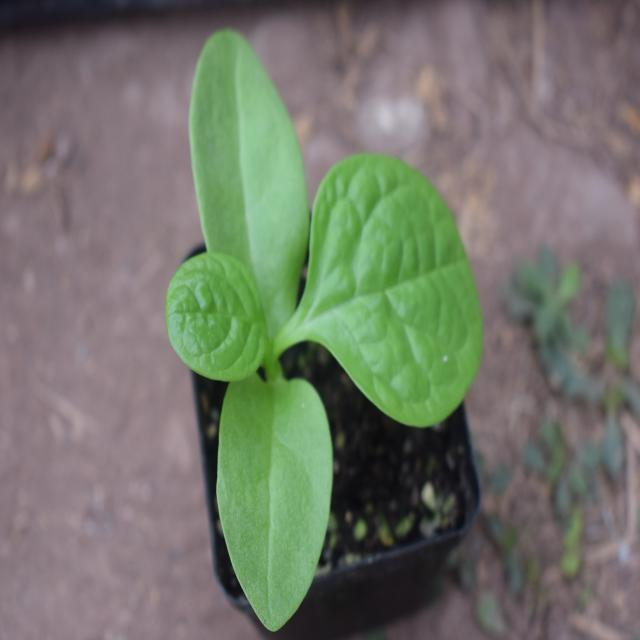Ceylon spinach: (173, 49, 500, 587)
